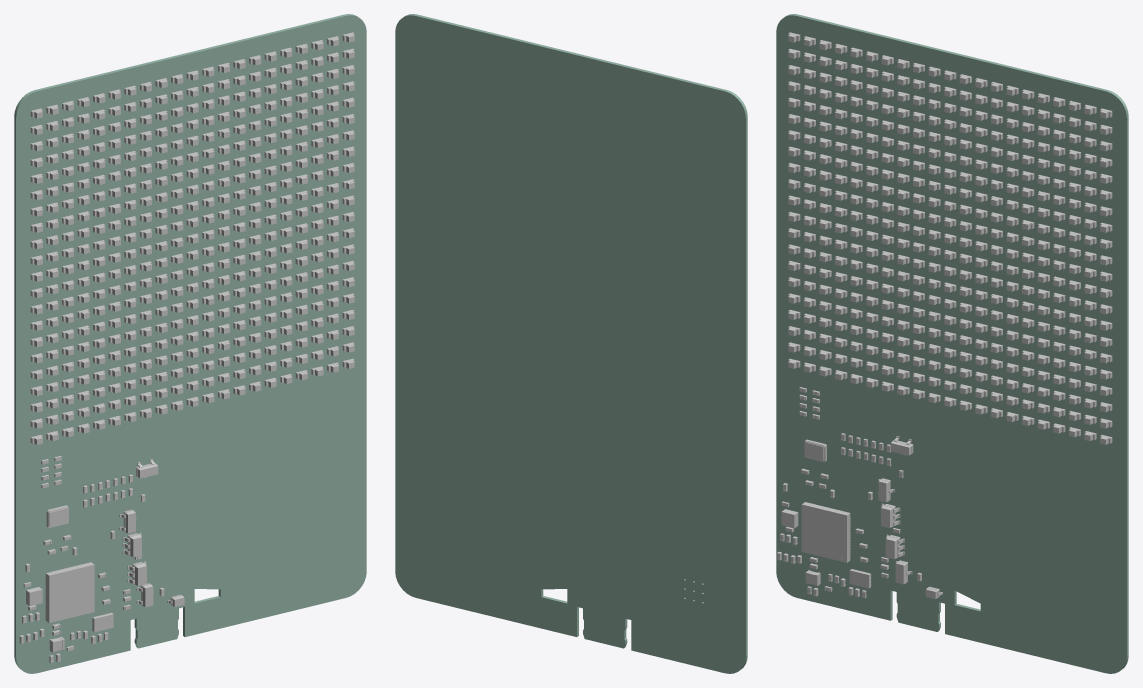
File: flip-card.glb
3 views of the same model, side by side, from view 1: azimuth 30°, elevation 25°; view 2: azimuth 150°, elevation 25°; view 3: azimuth 330°, elevation 25° (orthographic).
Parts seen in each view (by area): view 1: empty_13, empty_12; view 2: empty_13; view 3: empty_13, empty_12.
Part boxes in pixels (x1,y1,x2,y2): empty_13: [14, 14, 366, 673]; empty_12: [45, 562, 94, 622]; empty_13: [395, 14, 747, 673]; empty_13: [776, 14, 1128, 673]; empty_12: [801, 502, 850, 562].
Size of the model in its own units: 0.054 by 0.0856 by 0.00215.
